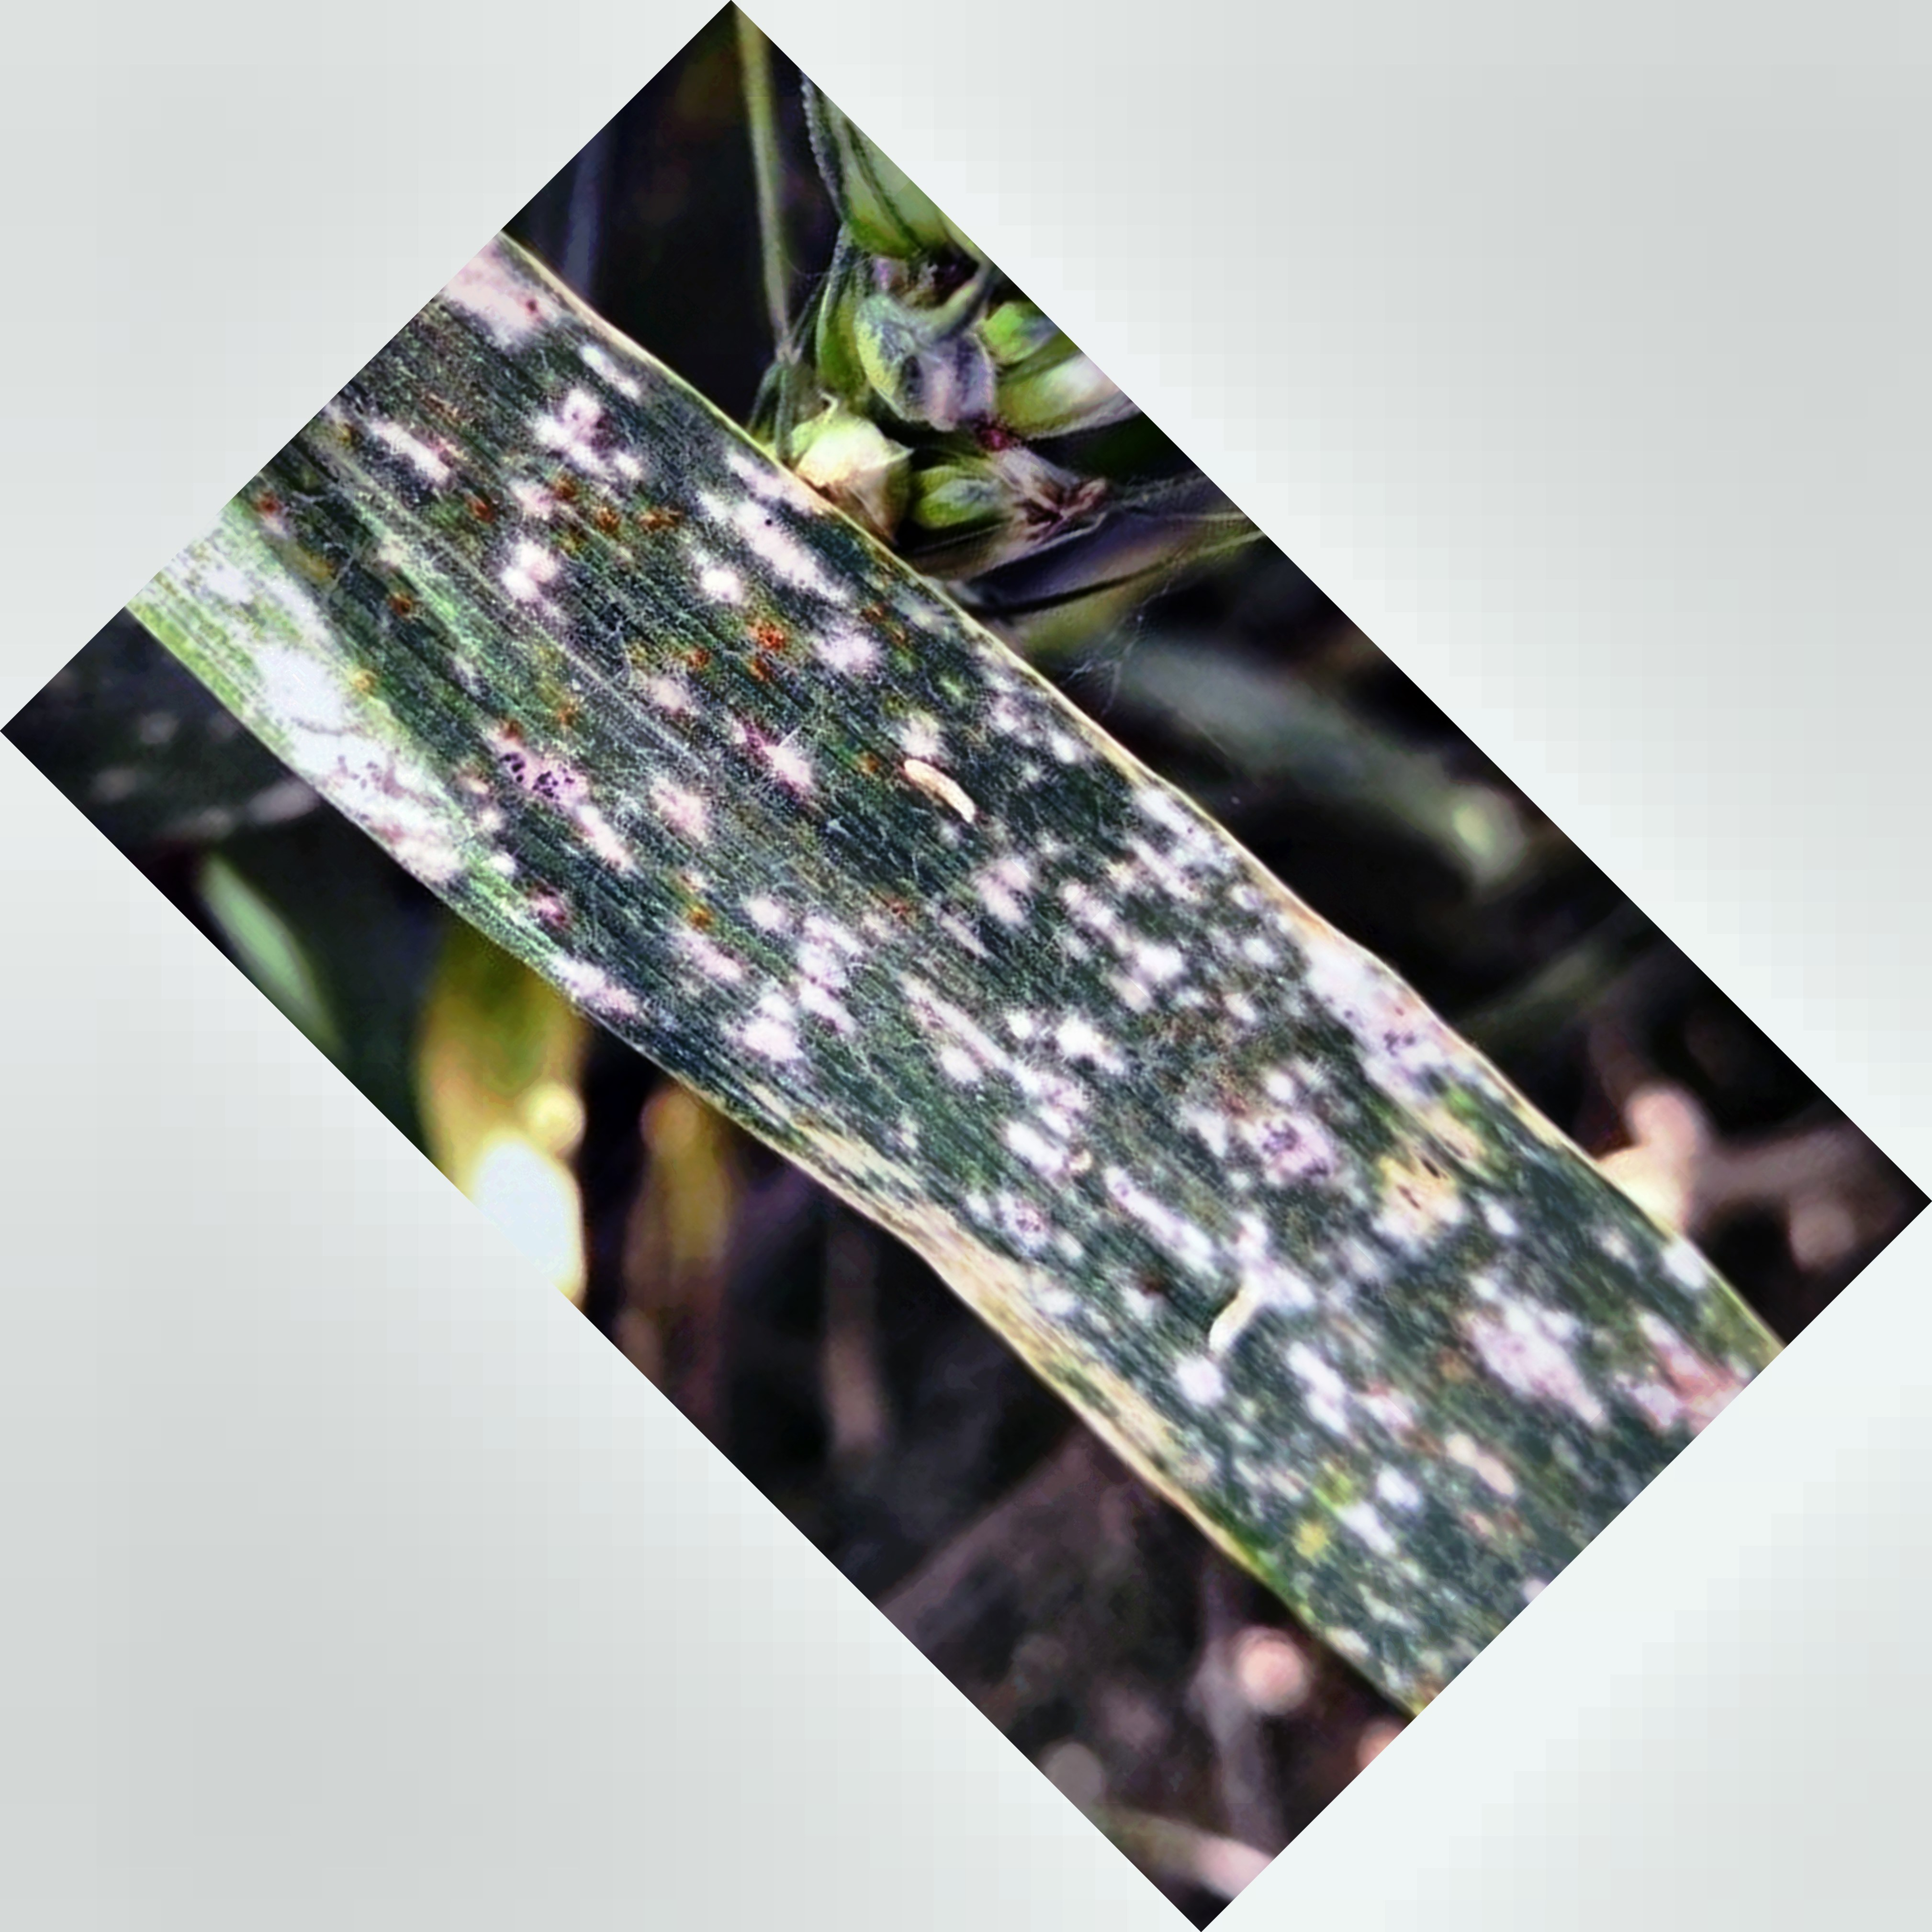Powdery Mildew: (467, 462, 1596, 1536)
